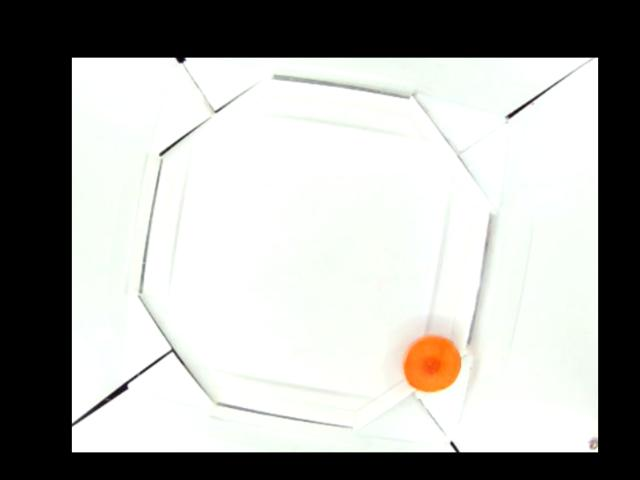Carrot: (402, 335, 460, 392)
